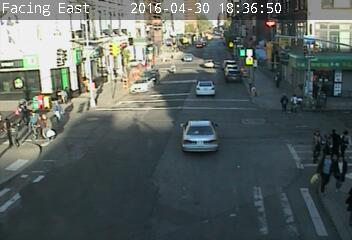neg: (234, 63, 271, 112), (133, 45, 159, 80), (219, 26, 228, 38), (196, 37, 204, 48)
pos: (312, 151, 344, 195), (327, 152, 351, 193), (304, 129, 331, 164), (21, 110, 45, 142), (325, 127, 344, 154), (5, 120, 24, 146), (277, 94, 292, 114), (287, 93, 301, 112), (338, 129, 351, 149), (57, 88, 68, 103), (52, 106, 62, 119), (17, 98, 25, 109)
